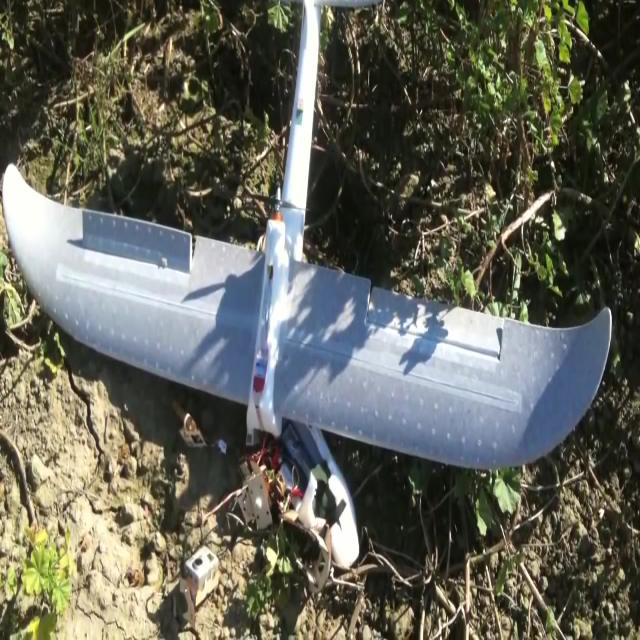iha: (2, 0, 617, 574)
